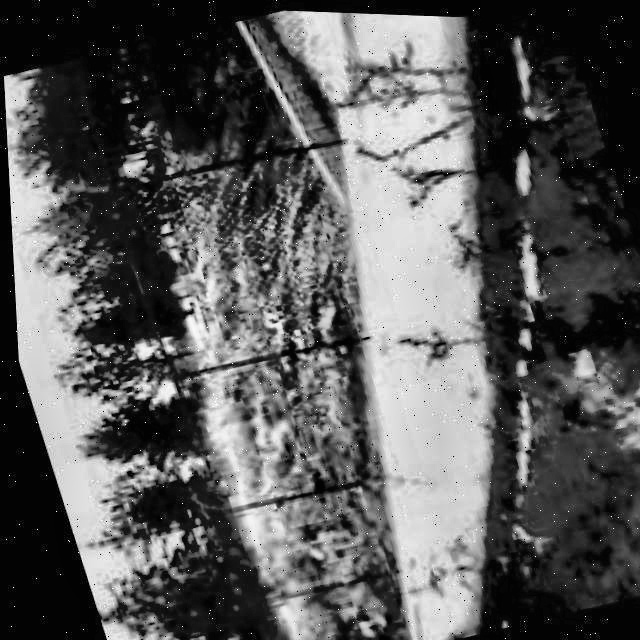Fire: (547, 350, 640, 470)
